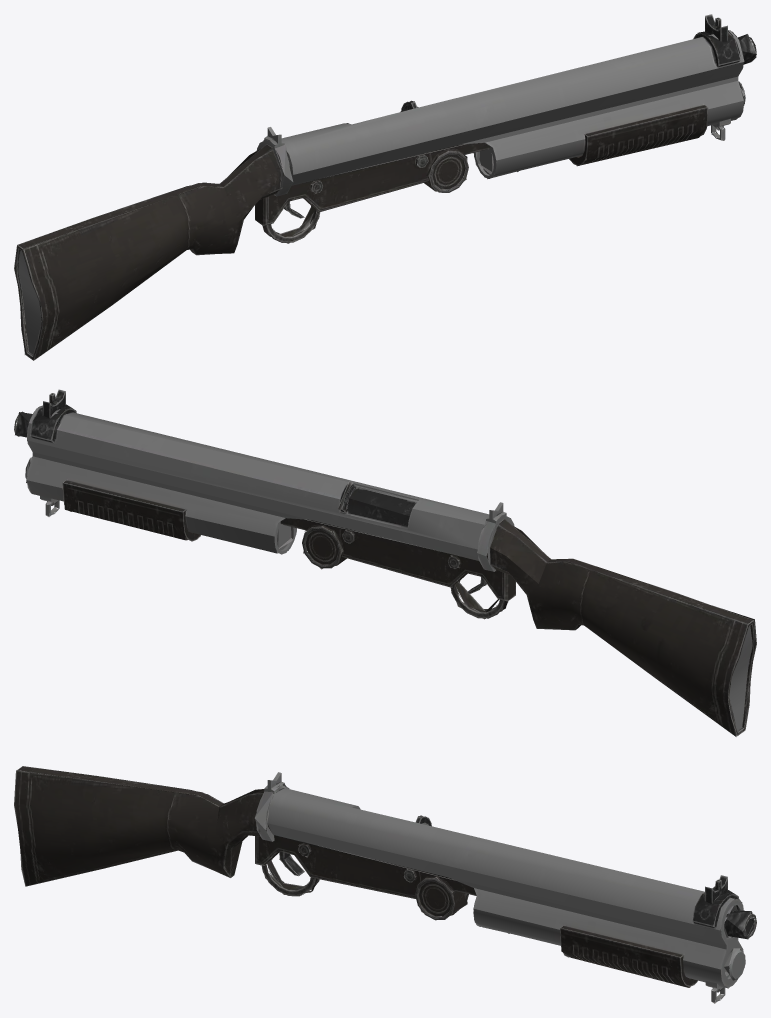
File: shotgun_med.glb
The picture shows the model from 3 angles, top to bottom: view 1: azimuth 30°, elevation 25°; view 2: azimuth 150°, elevation 25°; view 3: azimuth 330°, elevation 25°; orthographic projection.
Parts seen in each view (by area): view 1: body, pump; view 2: body, pump; view 3: body, pump.
Boxes of the visible parts, <box> form: body: <box>14,14,756,360</box>; pump: <box>460,76,743,179</box>; body: <box>14,389,756,736</box>; pump: <box>26,452,309,553</box>; body: <box>14,766,756,1003</box>; pump: <box>449,877,738,988</box>.
Size of the model in its own units: 1 by 0.2246 by 0.0712.
1 material, 1 textured.
